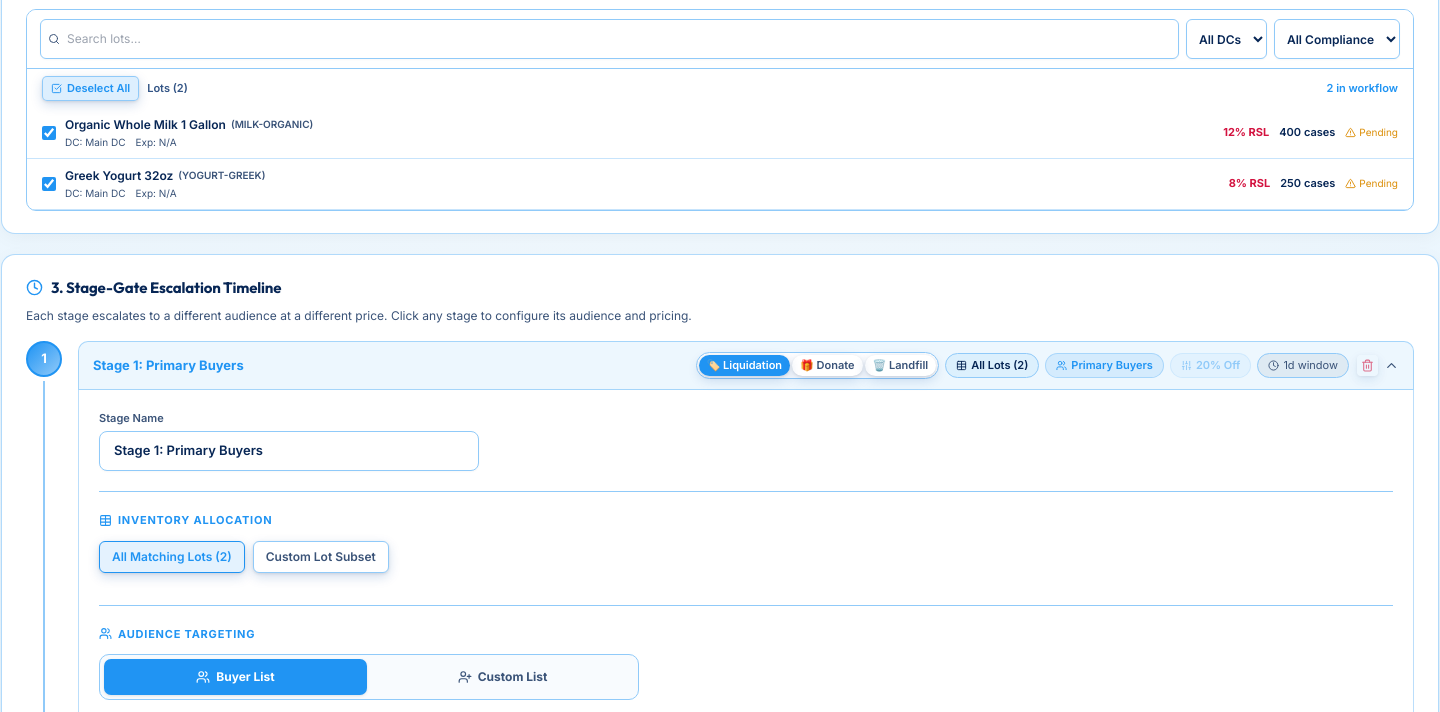
Scenario: Slice 1: Stage Type Switcher & Polymorphic Stage Panel Transformation › transforms stage panel to Landfill mode: hides pricing rules, displays Disposal & Removal Deadline date picker, and shows deadline chip
This screenshot has width=1440, height=712.
(page scrolled)
// Click Landfill button on Stage 1
Click the button with test id "stage-1-type-landfill": (900, 365) [864,355,936,376]
(page scrolled)
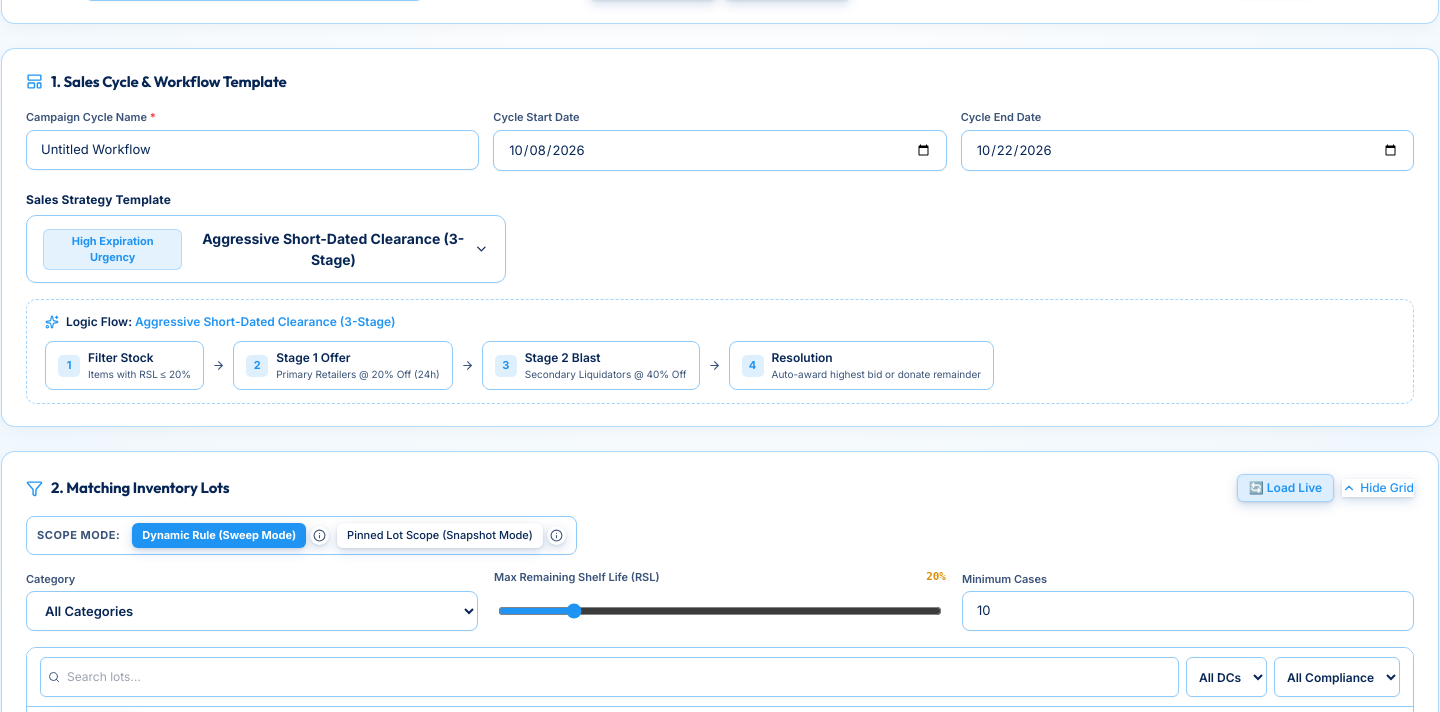
// Expand Stage 1
Click the text "1": (69, 366) [58,354,80,376]
(page scrolled)
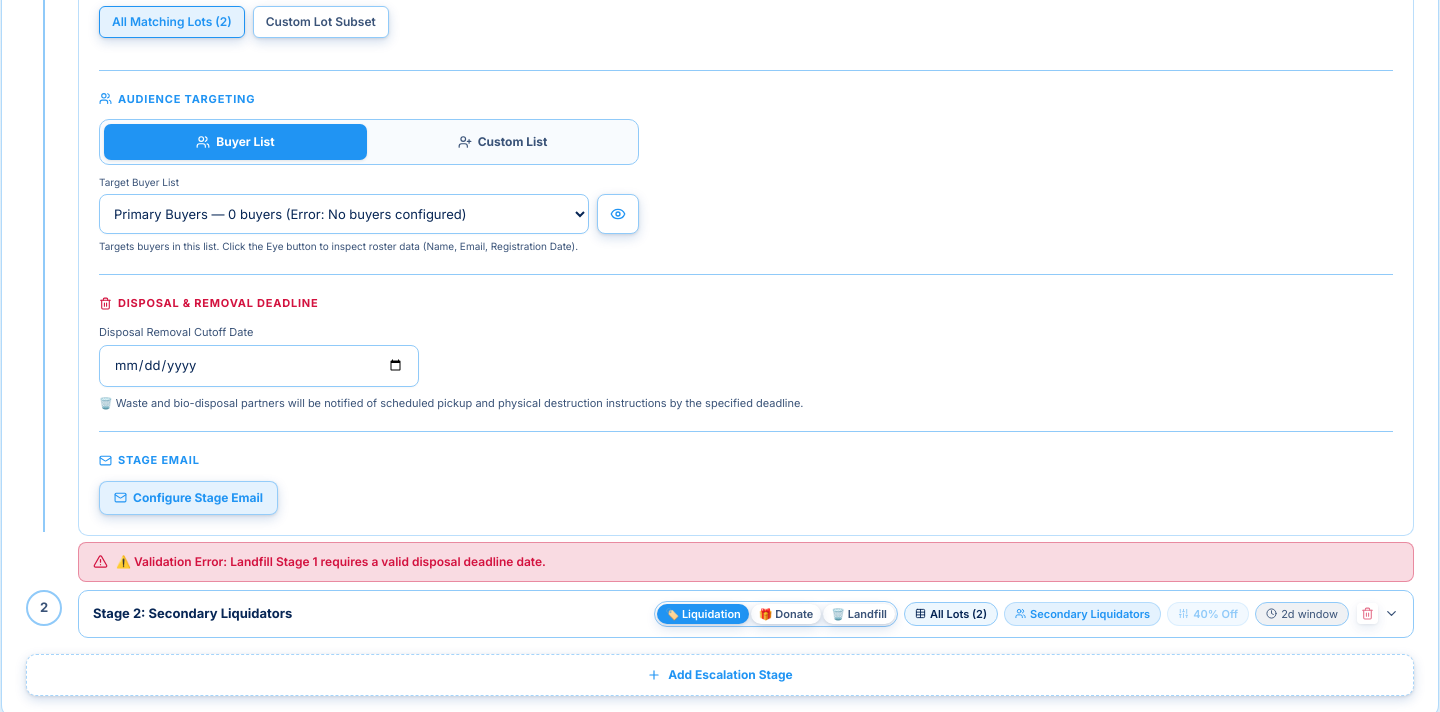
Result: the text "Disposal & Removal Deadline" is shown at [99,296,318,310]
Result: the date field with test id "stage-1-disposal-deadline-input" is shown
In the date field with test id "stage-1-disposal-deadline-input": (259, 366) [99,345,419,386], type "2026-09-01"
(page scrolled)
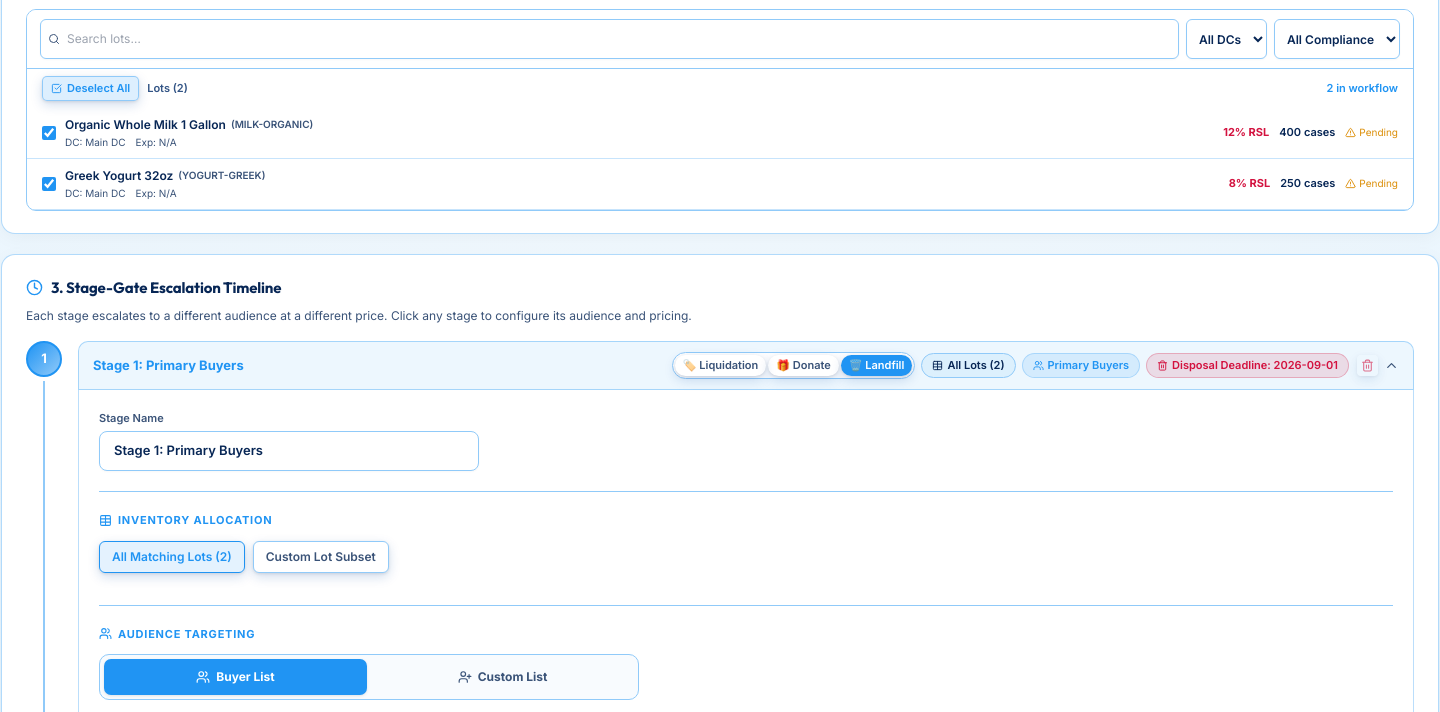
Result: the text "Disposal Deadline: 2026-09-01" is shown at [1146,353,1349,378]
